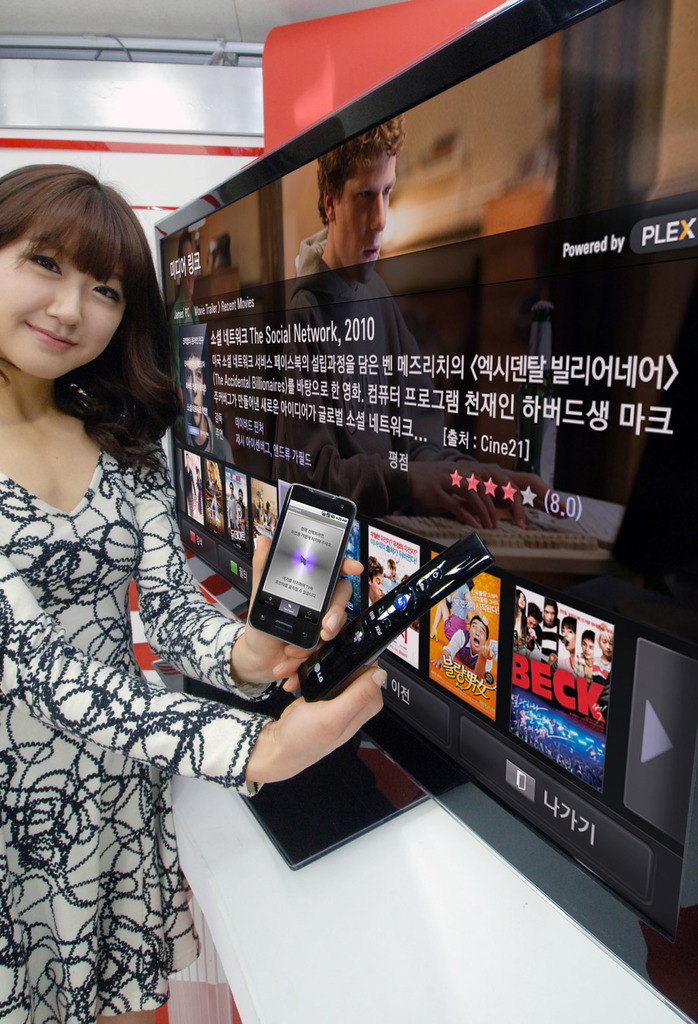Mobile-phone: (244, 481, 356, 650)
